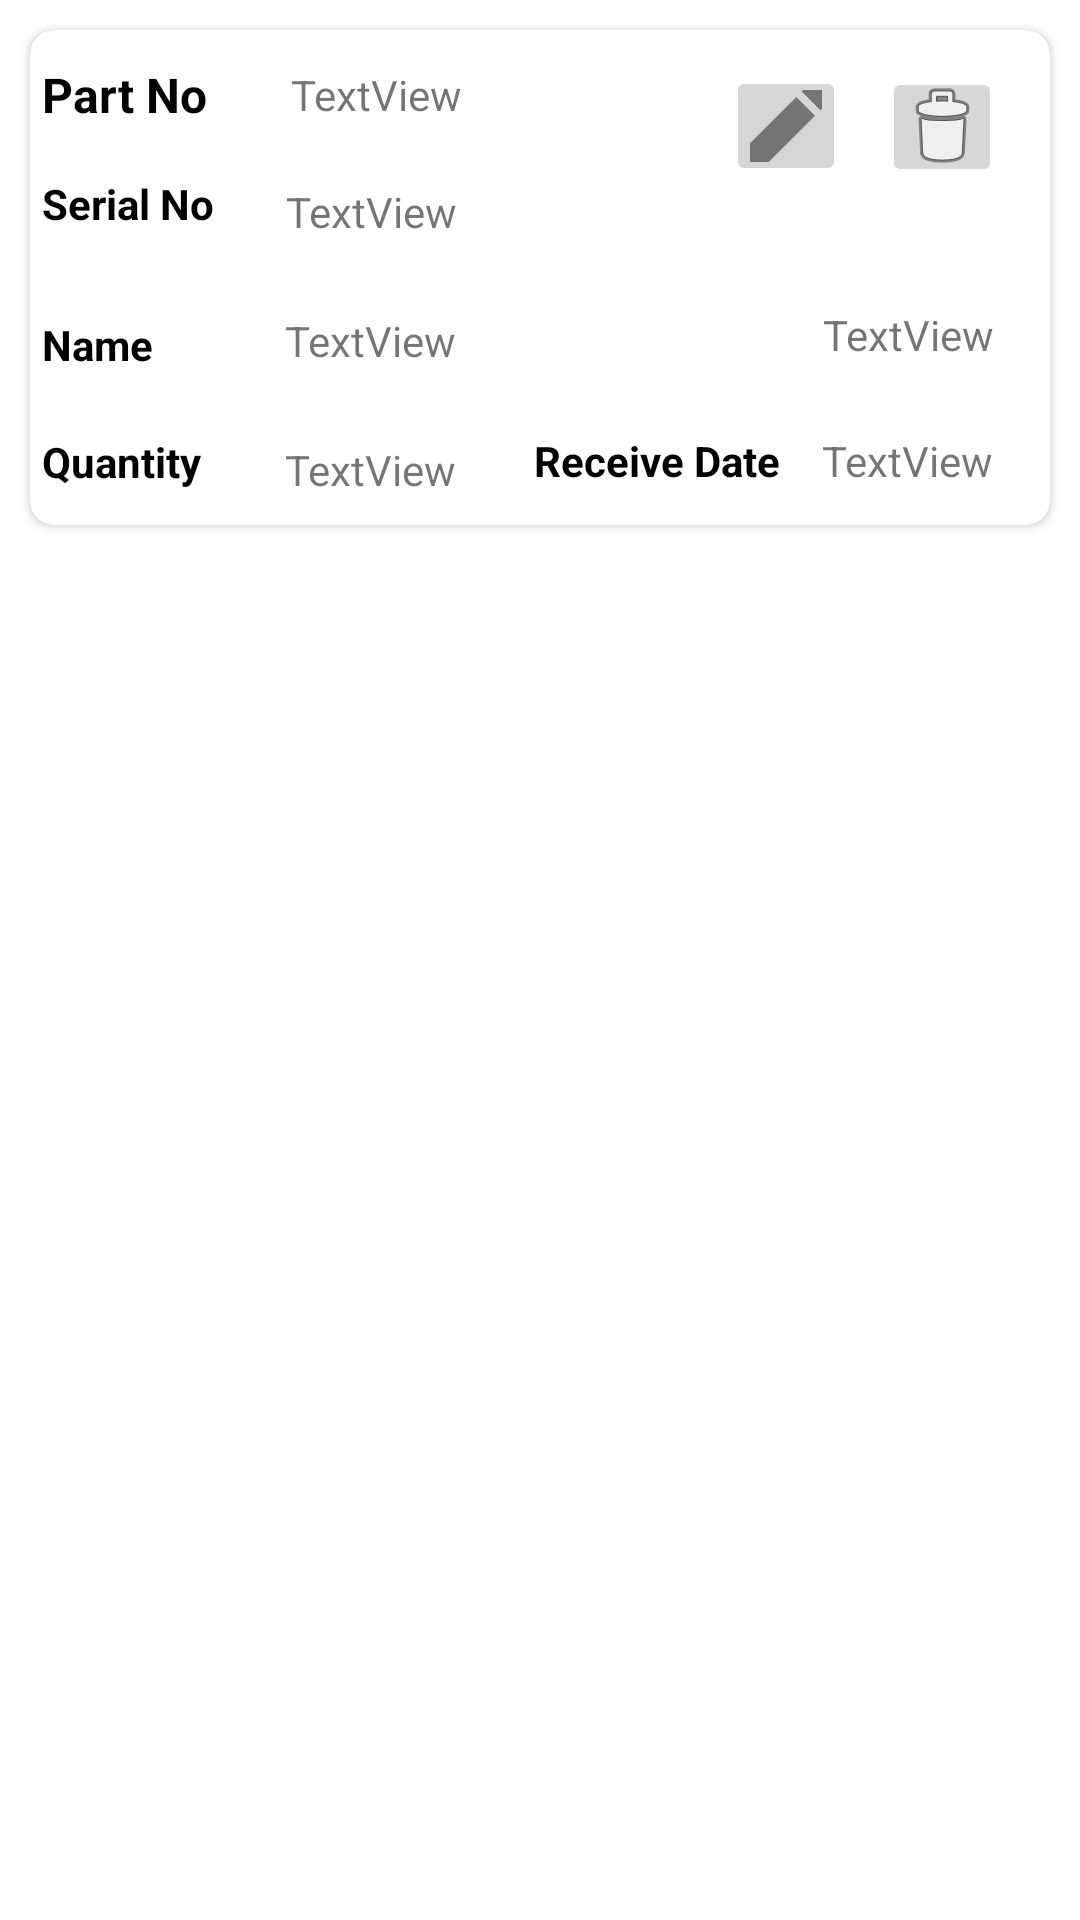

Where icons sit on this 1080×1920 app screen, as (x1, y1, x2, y2):
delete: (894, 85, 990, 169)
editpen: (738, 84, 834, 168)
